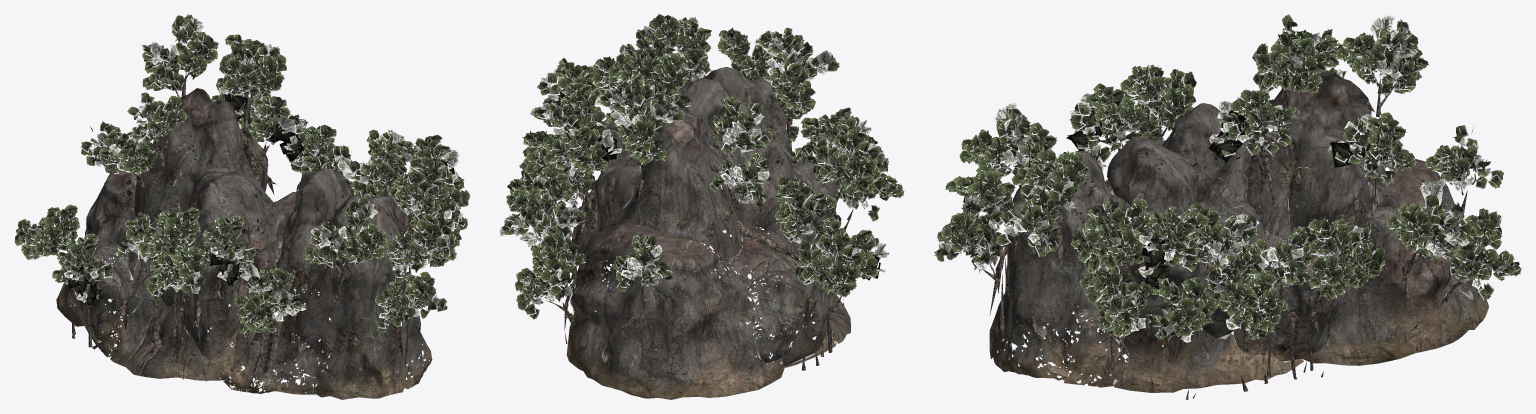
The model's file is rock_part.glb.
The picture shows the model from 3 angles, left to right: view 1: azimuth 30°, elevation 25°; view 2: azimuth 150°, elevation 25°; view 3: azimuth 270°, elevation 25°; orthographic projection. The views are drawn at different scales.
Parts seen in each view (by area): view 1: Merged; view 2: Merged; view 3: Merged.
Part boxes in pixels (bbox=[...]): Merged: bbox=[14, 14, 470, 399]; Merged: bbox=[499, 14, 904, 399]; Merged: bbox=[933, 14, 1521, 399].
Bounding box in the file's own units: 30.74 × 20.71 × 34.62.
Materials: 6 (6 with a texture image).
